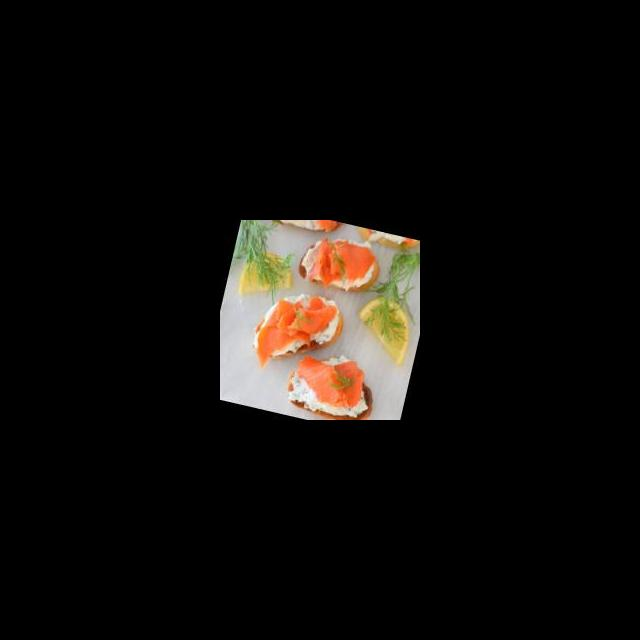ca hoi: (245, 280, 350, 386), (284, 346, 372, 416), (294, 229, 381, 298)
